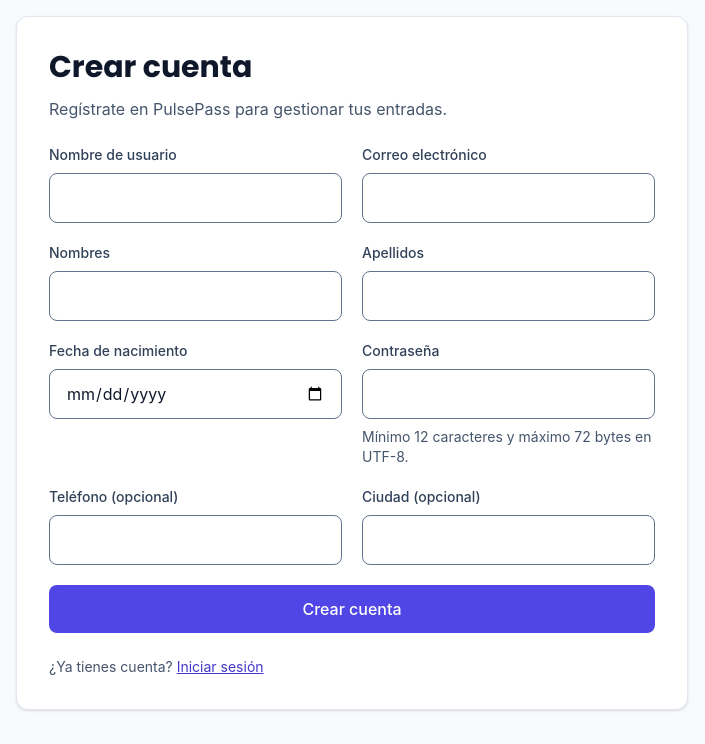
Test case: Registro › una contraseña de 11 caracteres no dispara la petición de registro
Type "andrea" into the field labelled "Nombre de usuario" at (196, 198), box x1=49 y1=173 x2=342 y2=223
Type "andrea@example.com" into the field labelled "Correo electrónico" at (508, 198), box x1=362 y1=173 x2=655 y2=223
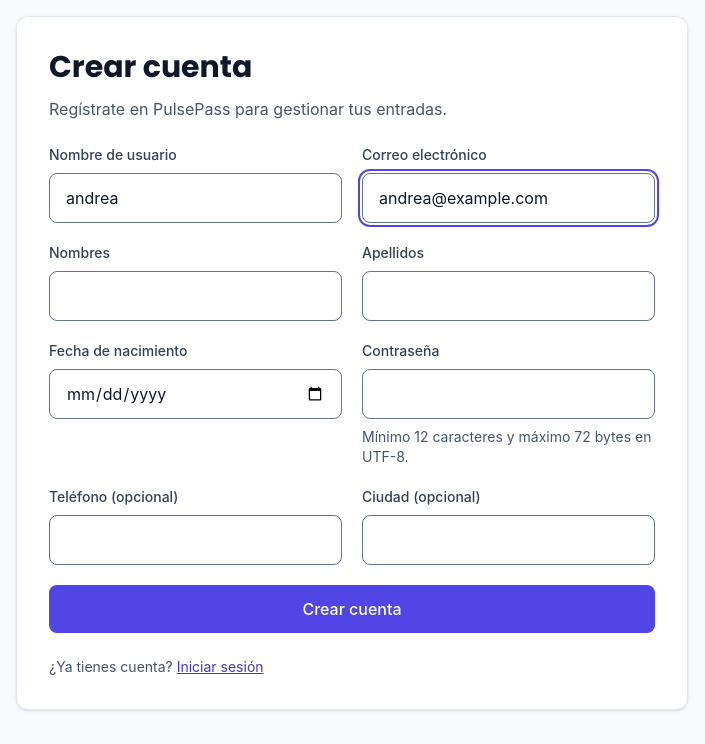
Type "Andrea" into the field labelled "Nombres" at (196, 296), box x1=49 y1=271 x2=342 y2=321
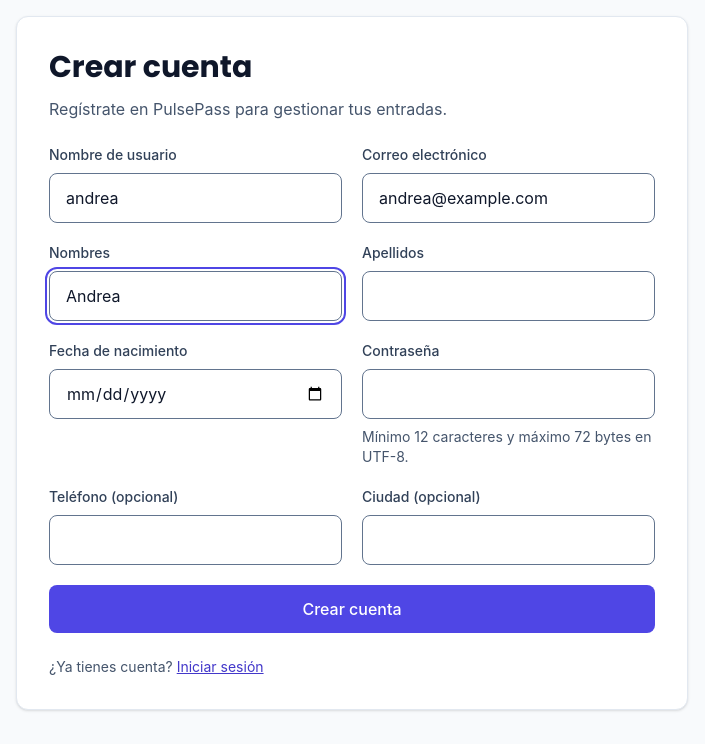
Type "Pérez" into the field labelled "Apellidos" at (508, 296), box x1=362 y1=271 x2=655 y2=321
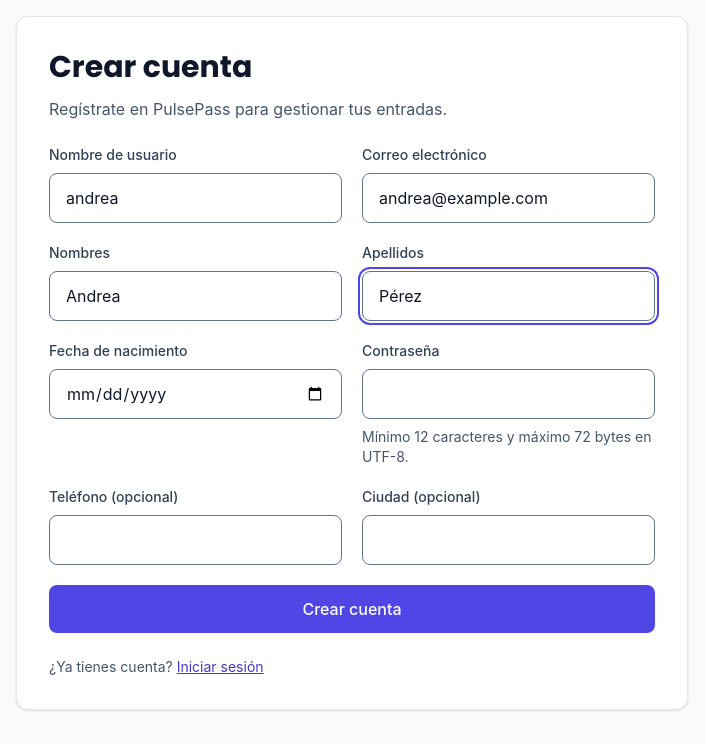
Type "2000-01-01" into the date field labelled "Fecha de nacimiento" at (196, 394), box x1=49 y1=369 x2=342 y2=419
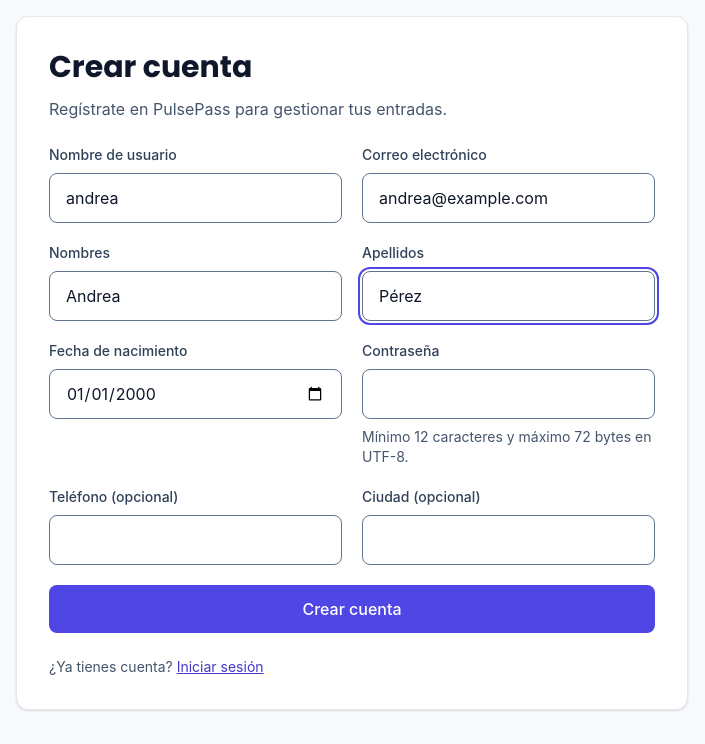
Type "12345678901" into the password field labelled "Contraseña" at (508, 394), box x1=362 y1=369 x2=655 y2=419
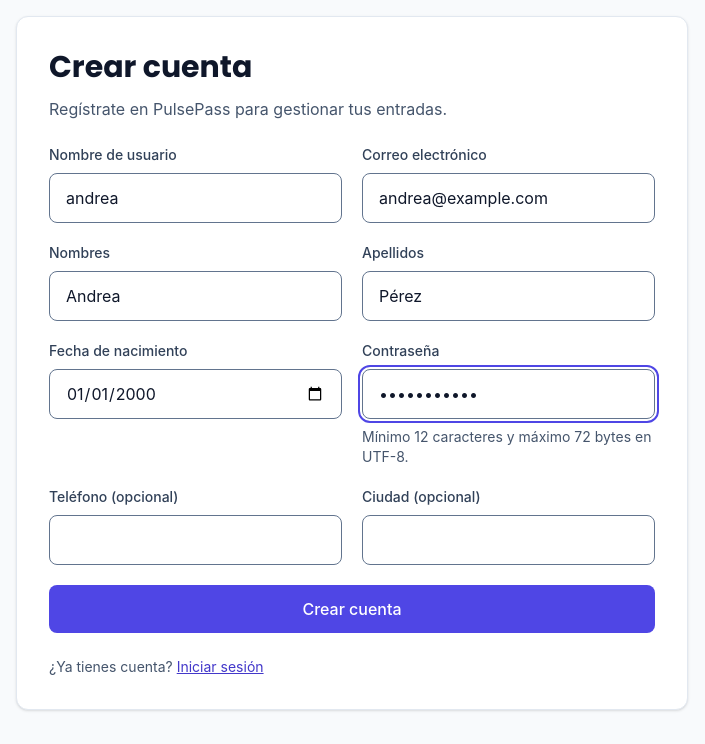
Click the button "Crear cuenta" at (352, 609), box x1=49 y1=585 x2=655 y2=633
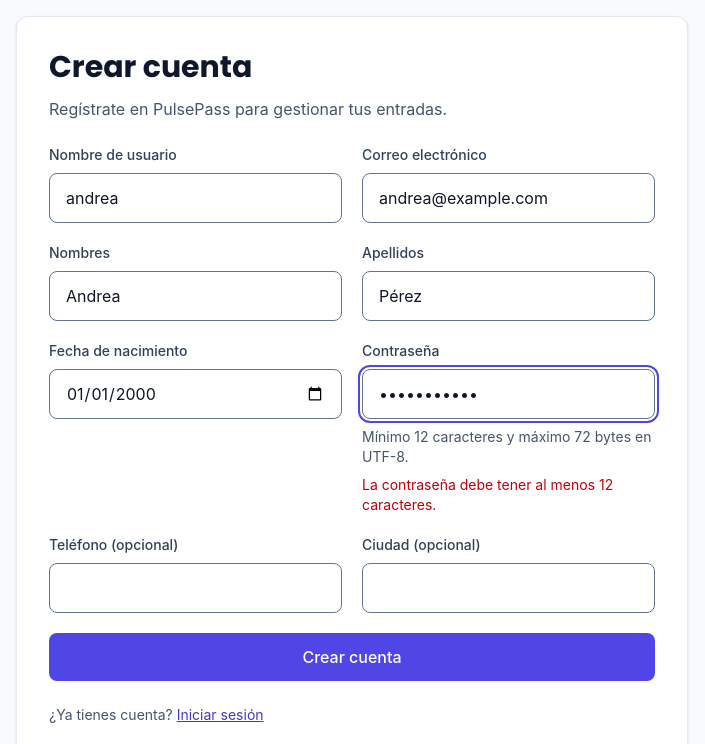
Expected: the text "La contraseña debe tener al menos 12 caracteres." is shown, x1=362 y1=475 x2=655 y2=515
